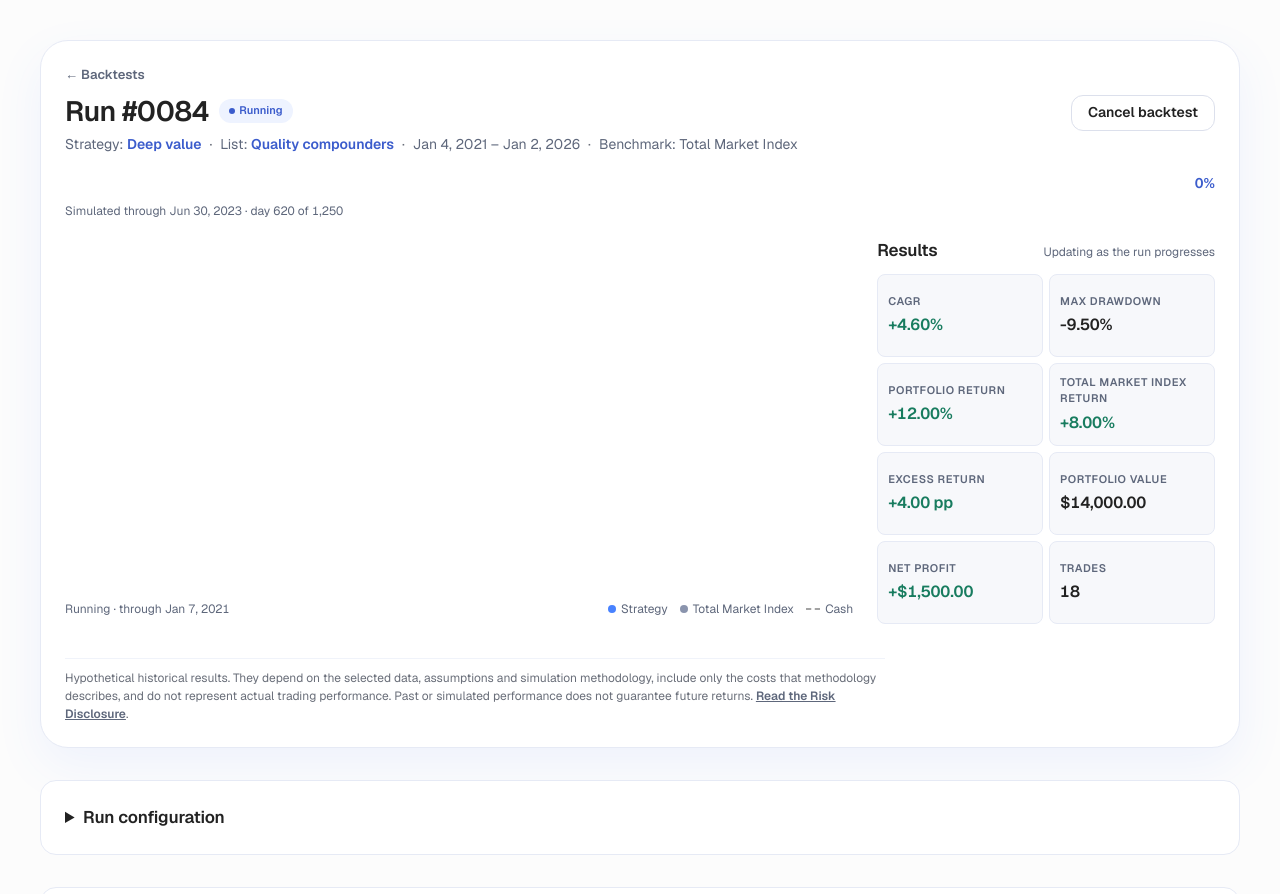
Scenario: BacktestRunView cancellation › shows a run that finished before it could be cancelled, and says so (409)
What coordinates should you click on to do the following:
click the button with test id "backtest-cancel"
I would click on:
 (1143, 112)
Its box is [1071,94,1215,130].
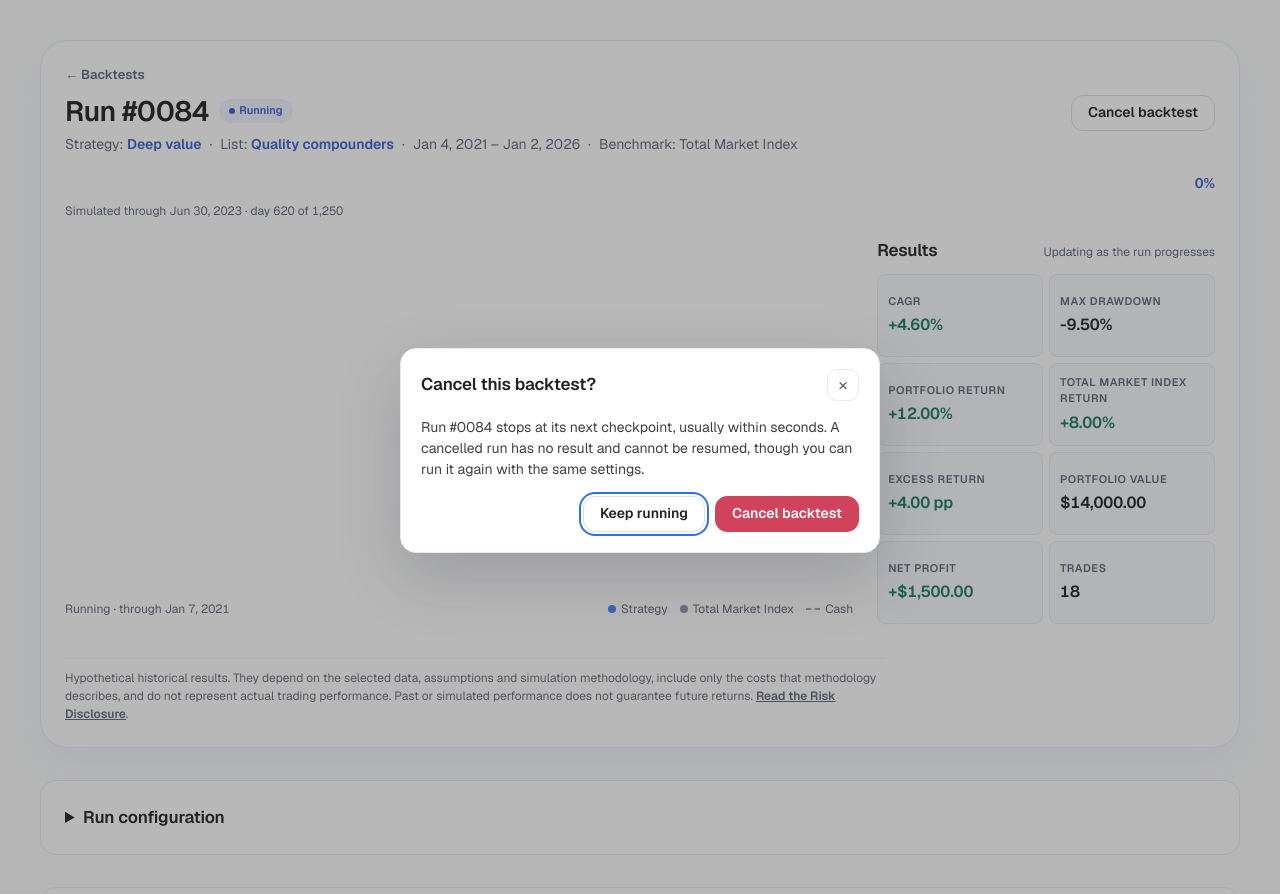
What coordinates should you click on to do the following:
click the button "Cancel backtest"
I would click on:
 (787, 514)
Its box is [715,496,859,532].
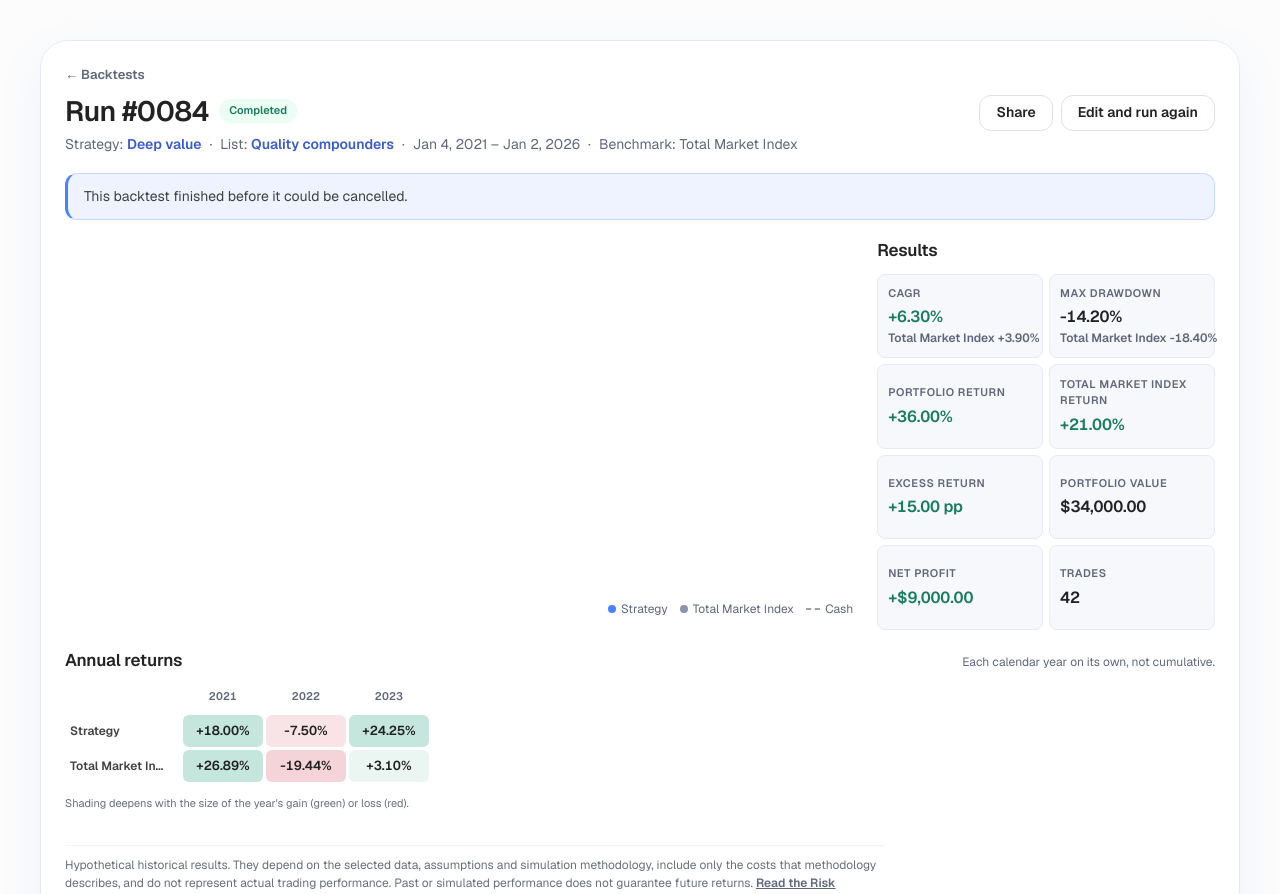
expect the dialog with test id "confirm-dialog" is gone: met
expect the text with test id "backtest-status" reads "Completed": met, box [229,103,287,117]
expect the element with test id "backtest-cancel-too-late" reads "This backtest finished before it could be cancelled.": met, box [84,187,407,205]
